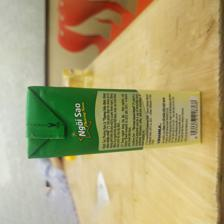NSPN_Hop: (25, 83, 205, 162)
